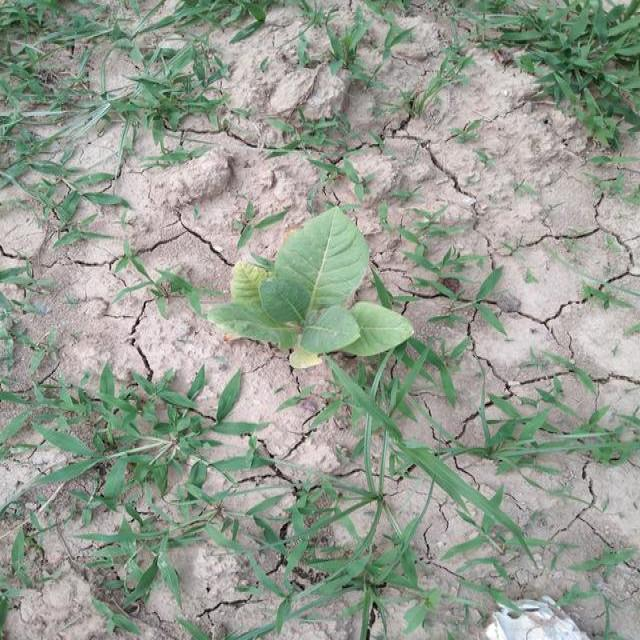crop: (212, 192, 422, 373)
